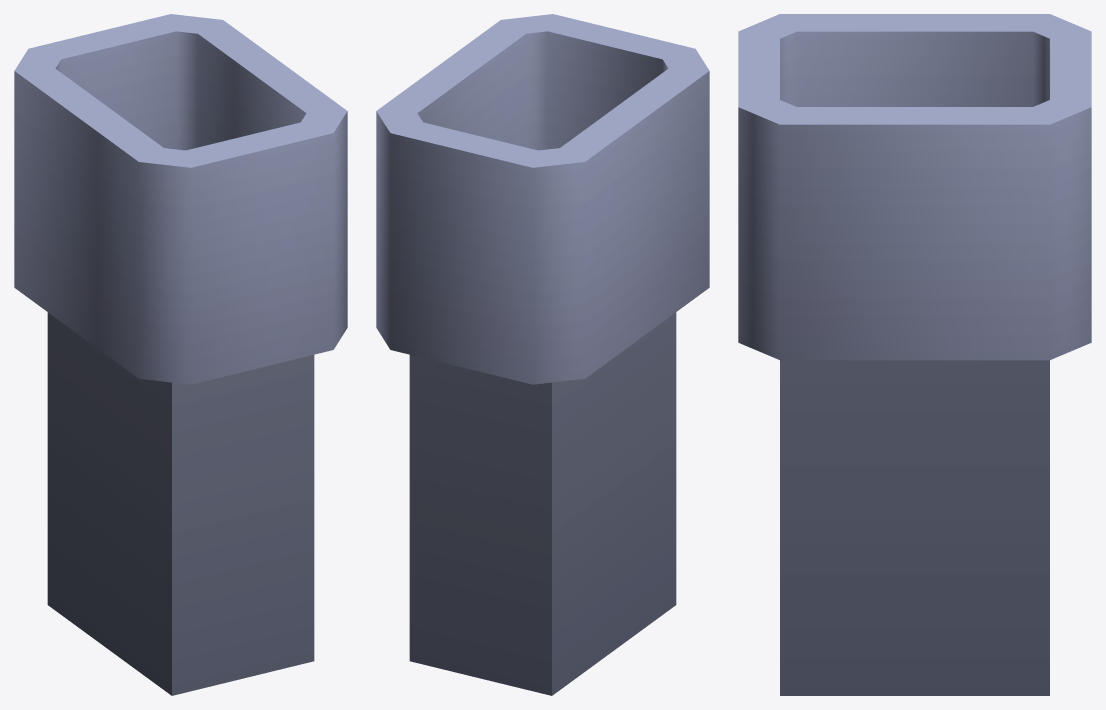
File: chimney-top.glb
3 views of the same model, side by side, from view 1: azimuth 30°, elevation 25°; view 2: azimuth 150°, elevation 25°; view 3: azimuth 270°, elevation 25° (orthographic). The views are drawn at different scales.
Parts seen in each view (by area): view 1: chimney-top; view 2: chimney-top; view 3: chimney-top.
Boxes of the visible parts, bbox=[...] form: chimney-top: bbox=[14, 14, 347, 695]; chimney-top: bbox=[376, 14, 709, 695]; chimney-top: bbox=[738, 14, 1091, 695].
Bounding box in the file's own units: 0.2519 × 0.625 × 0.34.
Materials: 1 (1 with a texture image).
